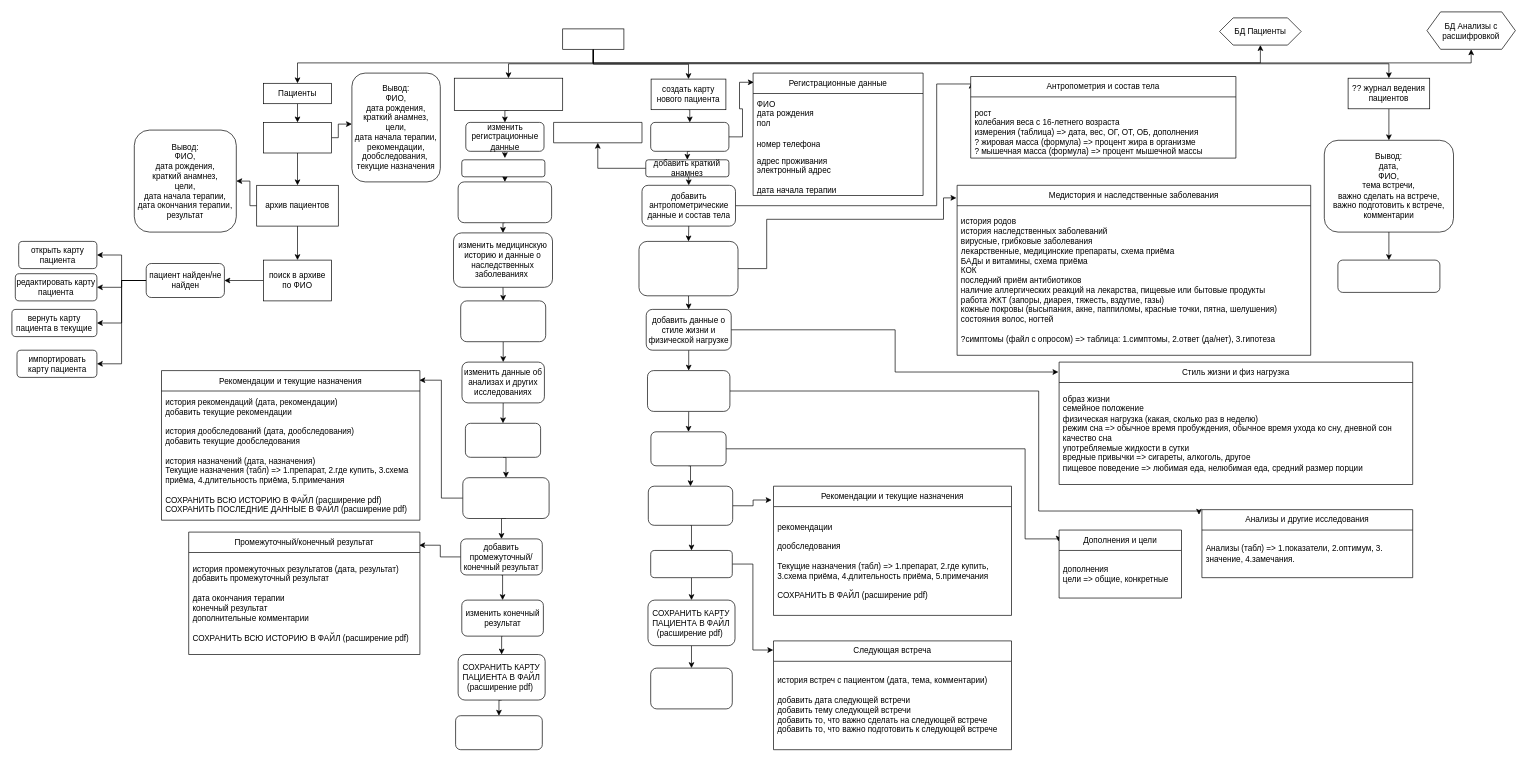
Image size: 1527x762. Some labels were removed from this diagram. Here are the shapes that lost their labels. From the top down, the centre of each, then its label:
At (x=593, y=38): "Меню".
At (x=508, y=94): "редактировать карту пациента (список ФИО с ссылкой на карту)".
At (x=297, y=137): "текущие карты пациентов".
At (x=597, y=132): "Краткий анамнез".
At (x=689, y=136): "добавить регистрационные данные".
At (x=503, y=168): "изменить краткий анамнез".
At (x=504, y=202): "изменить антропометрические данные и состав тела".
At (x=688, y=268): "добавить медицинскую историю и данные о наследственных заболеваниях".
At (x=1388, y=275): "СОХРАНИТЬ РАСПИСАНИЕ В ФАЙЛ (расширение pdf)".
At (x=503, y=321): "изменить данные о стиле жизни и физической нагрузке".
At (x=688, y=390): "добавить данные об анализах и других исследованиях".
At (x=503, y=440): "изменить дополнения и цели".
At (x=688, y=448): "добавить дополнения и цели".
At (x=505, y=497): "изменить рекомендации, дообследования и текущие назначения".
At (x=690, y=505): "добавить рекомендации, дообследования и текущие назначения".
At (x=691, y=564): "Добавить дату следующей встречи".
At (x=691, y=688): "сохранить карту пациента в текущие".
At (x=498, y=732): "добавить карту пациента в архив".
